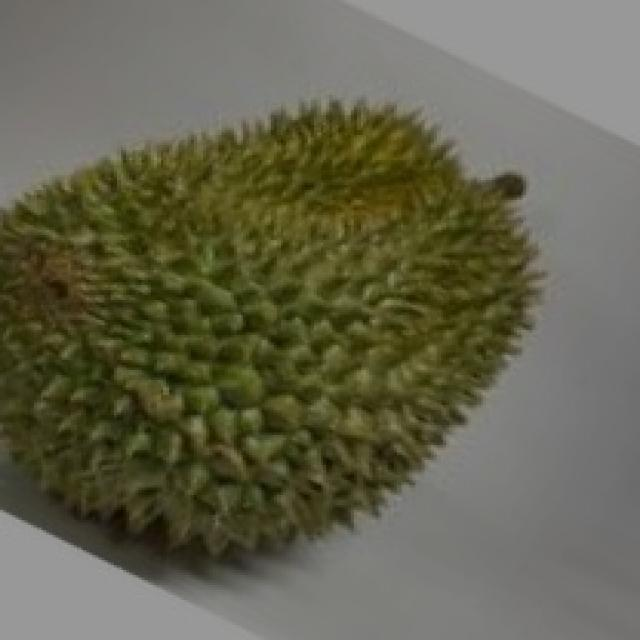fruit: (0, 248, 351, 630)
